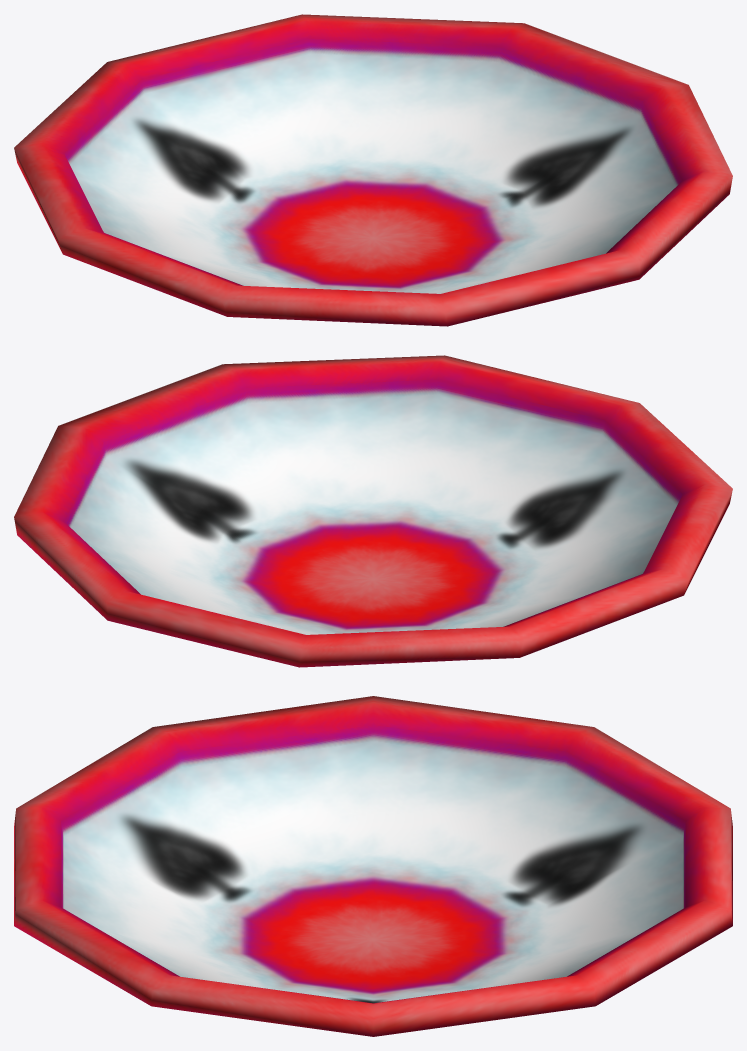
File: Saucer_PLAYING_CARD.dae
3 views of the same model, one above another, from view 1: azimuth 30°, elevation 25°; view 2: azimuth 150°, elevation 25°; view 3: azimuth 270°, elevation 25° (orthographic). The views are drawn at different scales.
Visible parts, largest first — view 1: mesh0; view 2: mesh0; view 3: mesh0.
Boxes of the visible parts, x1,y1,x2,y2 form: mesh0: [14, 14, 732, 326]; mesh0: [14, 355, 732, 667]; mesh0: [14, 696, 732, 1036].
Size of the model in its own units: 0.3021 by 0.047 by 0.2819.
